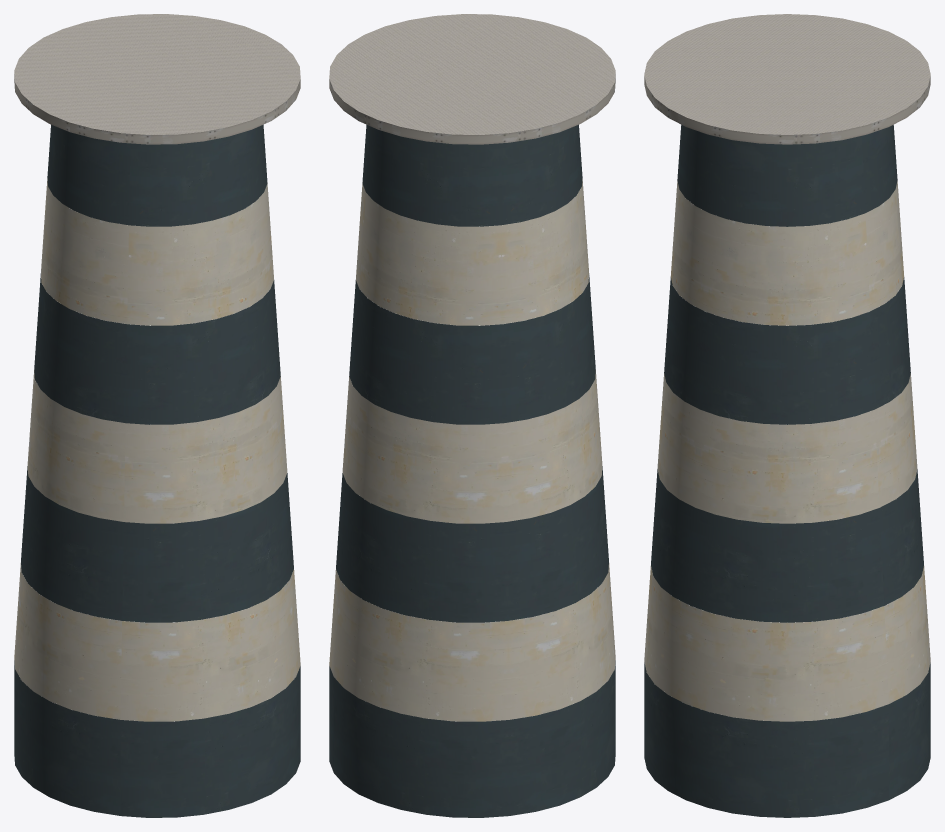
The picture shows the model from 3 angles, left to right: view 1: azimuth 30°, elevation 25°; view 2: azimuth 150°, elevation 25°; view 3: azimuth 270°, elevation 25°; orthographic projection.
Visible parts, largest first — view 1: body0_model0_lod0_mesh1, body0_model0_lod0_mesh4, body0_model0_lod0_mesh2, body0_model0_lod0_mesh3; view 2: body0_model0_lod0_mesh1, body0_model0_lod0_mesh4, body0_model0_lod0_mesh2, body0_model0_lod0_mesh3; view 3: body0_model0_lod0_mesh1, body0_model0_lod0_mesh4, body0_model0_lod0_mesh2, body0_model0_lod0_mesh3.
Boxes of the visible parts, <box> form: body0_model0_lod0_mesh1: <box>14,124,300,817</box>; body0_model0_lod0_mesh4: <box>14,178,300,721</box>; body0_model0_lod0_mesh2: <box>14,14,300,134</box>; body0_model0_lod0_mesh3: <box>14,74,300,144</box>; body0_model0_lod0_mesh1: <box>329,124,615,817</box>; body0_model0_lod0_mesh4: <box>329,178,615,721</box>; body0_model0_lod0_mesh2: <box>329,14,615,134</box>; body0_model0_lod0_mesh3: <box>329,74,615,144</box>; body0_model0_lod0_mesh1: <box>644,125,930,817</box>; body0_model0_lod0_mesh4: <box>644,181,930,721</box>; body0_model0_lod0_mesh2: <box>644,14,930,134</box>; body0_model0_lod0_mesh3: <box>644,76,930,144</box>.
Bounding box in the file's own units: 27 × 71 × 27.
Materials: 5 (5 with a texture image).
